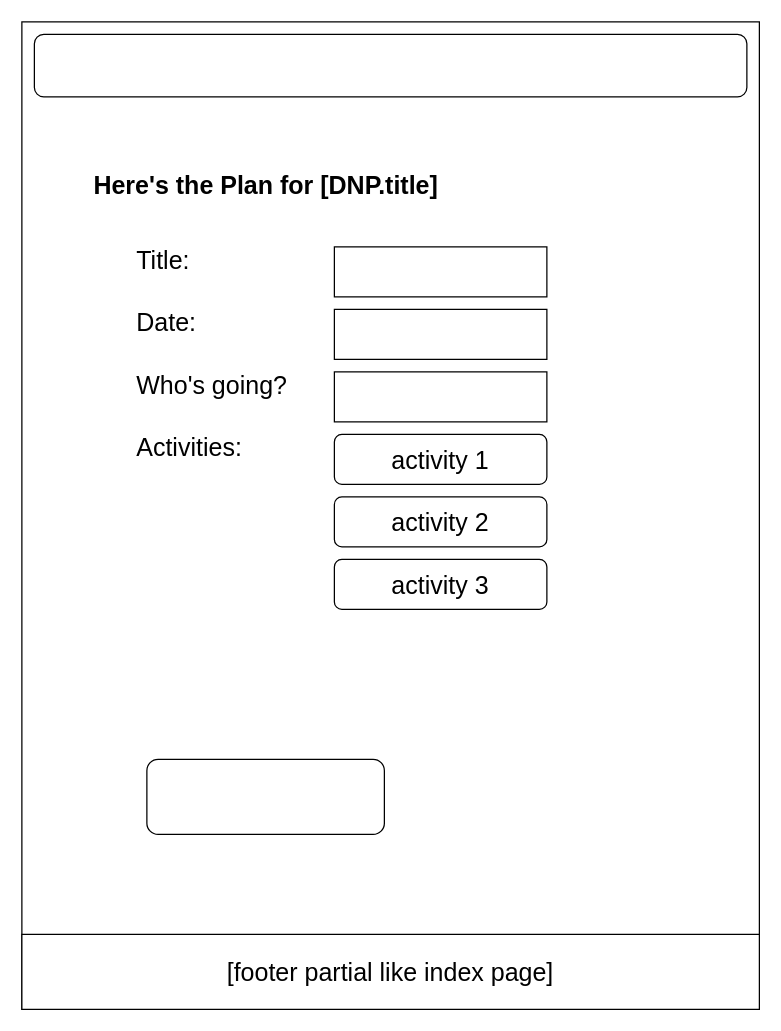
Image size: 781x1031. Some labels were removed from this diagram. Here are the shapes that lost their labels. From the top down, the box of each, then its label:
(33, 33, 747, 97): [header partial like index page]
(146, 758, 384, 834): Edit Date Night
